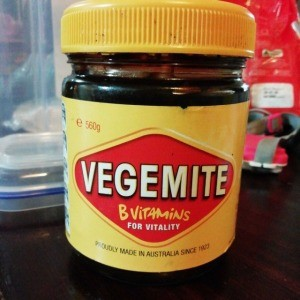yeast spread_brain food: (70, 72, 237, 227)
